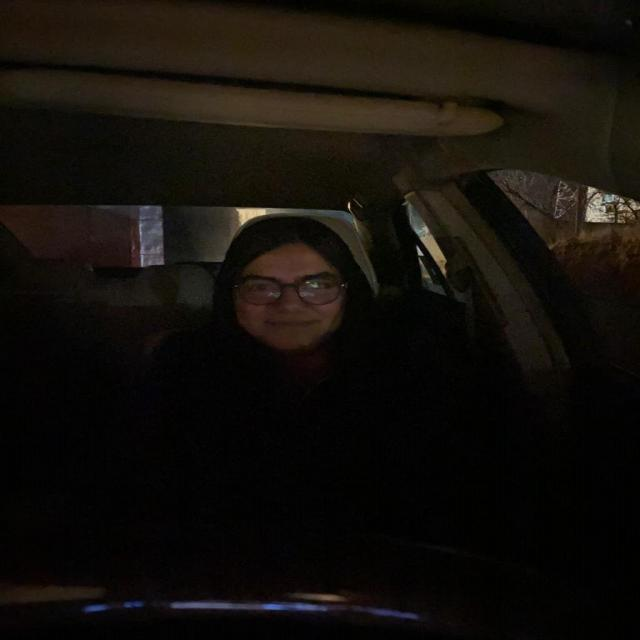person: (219, 219, 382, 356)
